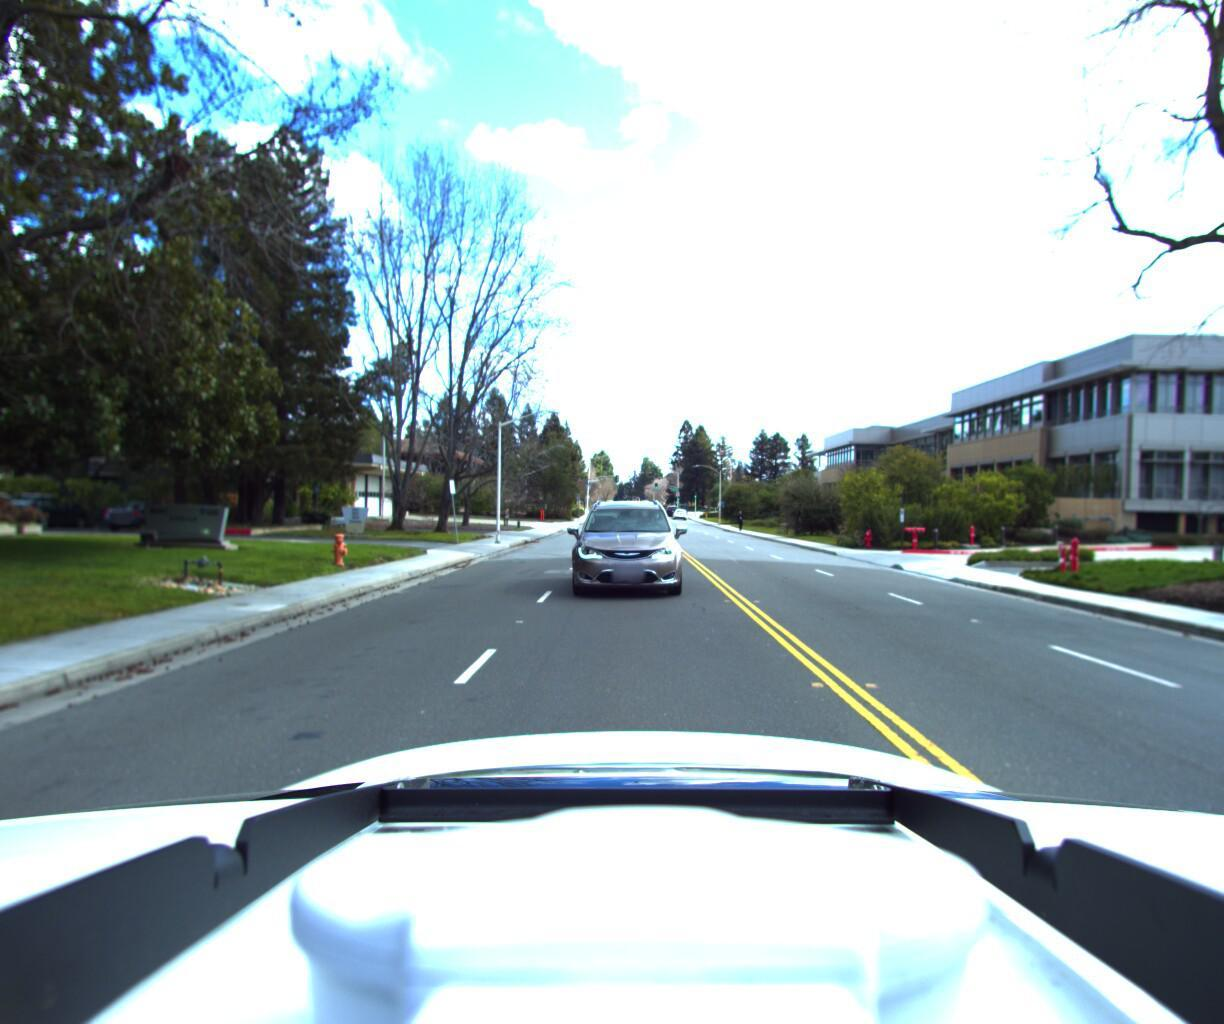car: (557, 495, 680, 608)
